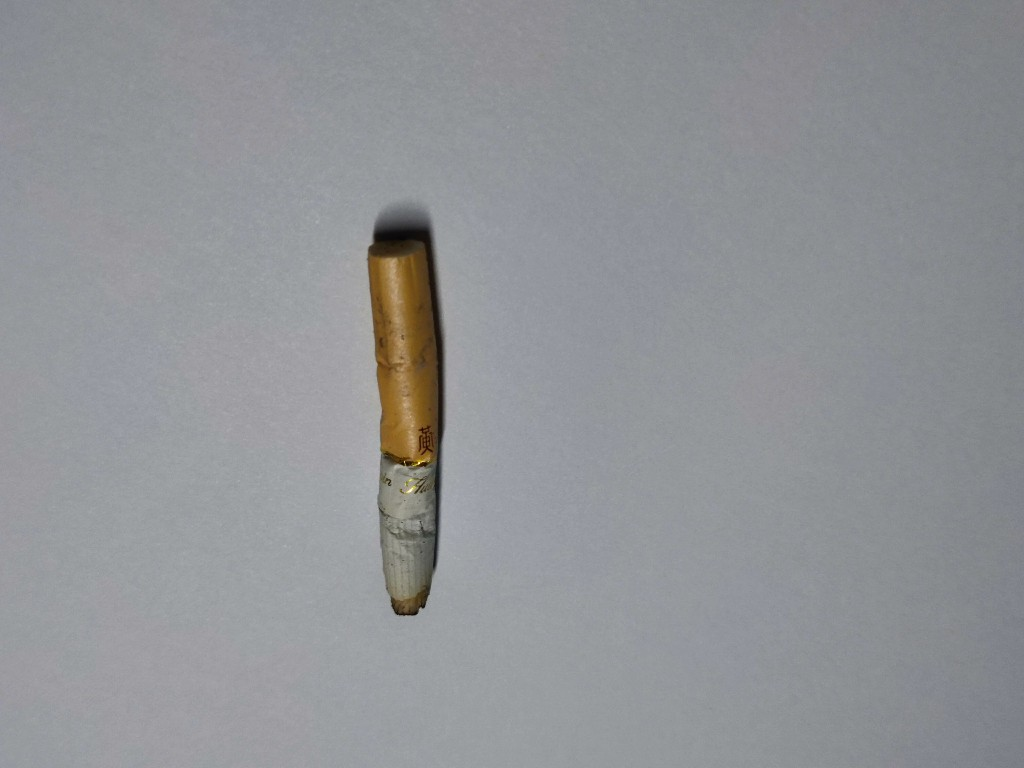cigarette: (356, 229, 474, 630)
